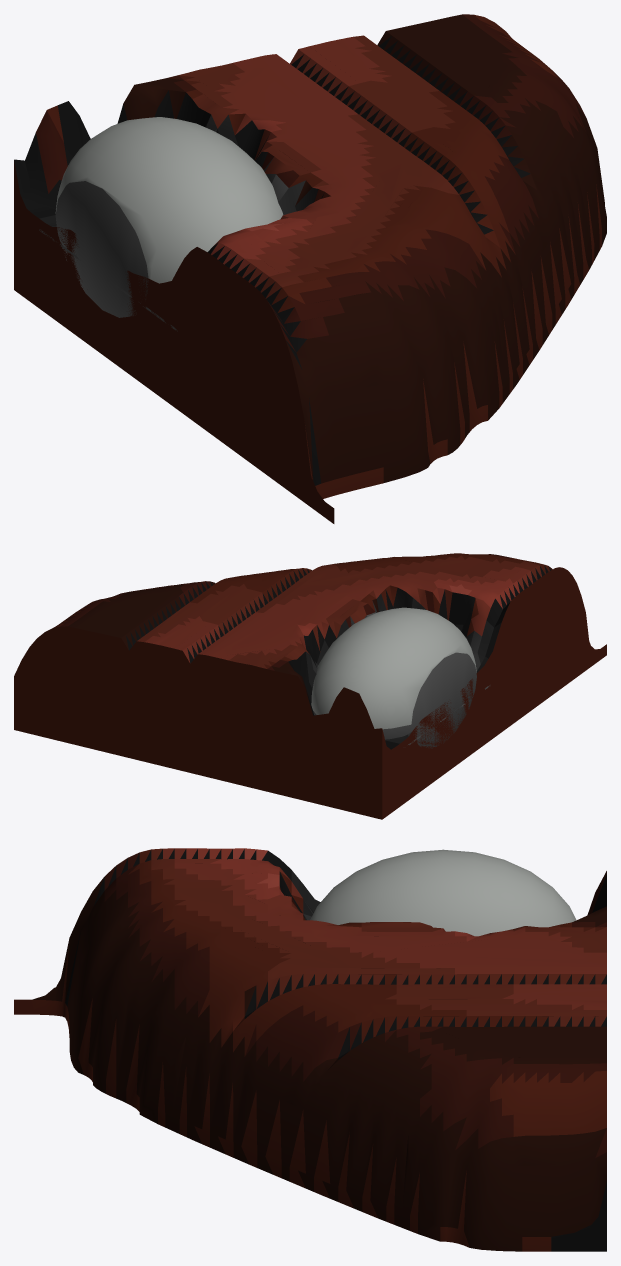
The model's file is savara_boss_238.glb.
3 views of the same model, one above another, from view 1: azimuth 30°, elevation 25°; view 2: azimuth 150°, elevation 25°; view 3: azimuth 270°, elevation 25° (orthographic). The views are drawn at different scales.
Visible parts, largest first — view 1: savara_boss_238_hull; view 2: savara_boss_238_hull; view 3: savara_boss_238_hull.
Part boxes in pixels (x1=…): savara_boss_238_hull: x1=14, y1=14, x2=606, y2=523; savara_boss_238_hull: x1=14, y1=553, x2=606, y2=819; savara_boss_238_hull: x1=14, y1=848, x2=606, y2=1251.
Size of the model in its own units: 24 by 8.9 by 25.38.
